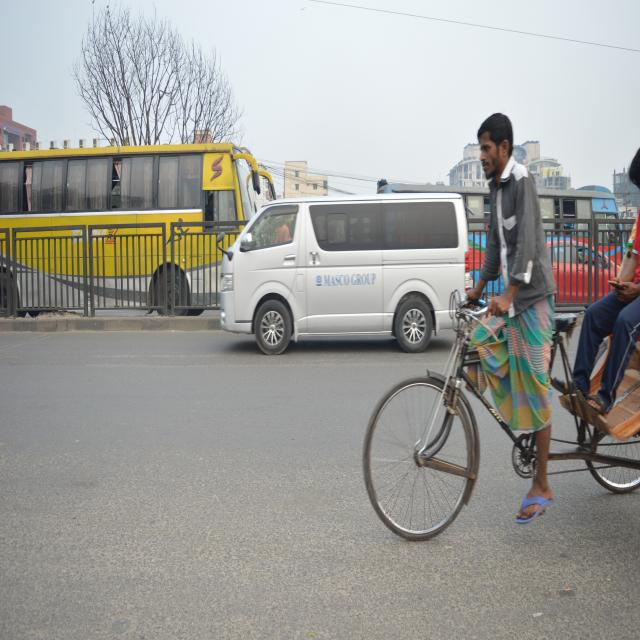bus: (1, 144, 254, 319), (463, 181, 640, 342)
microbus: (217, 194, 472, 347)
